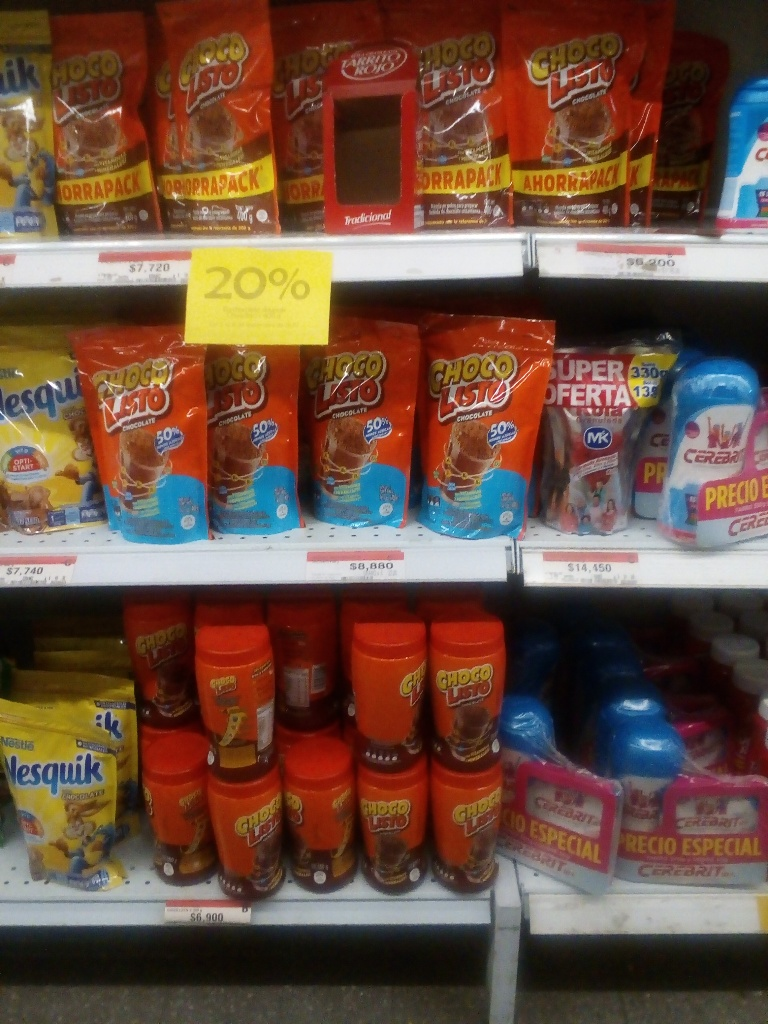COL0170103DYP40000: (47, 1, 167, 239)
COL0170103TRR30000: (193, 618, 282, 779)
